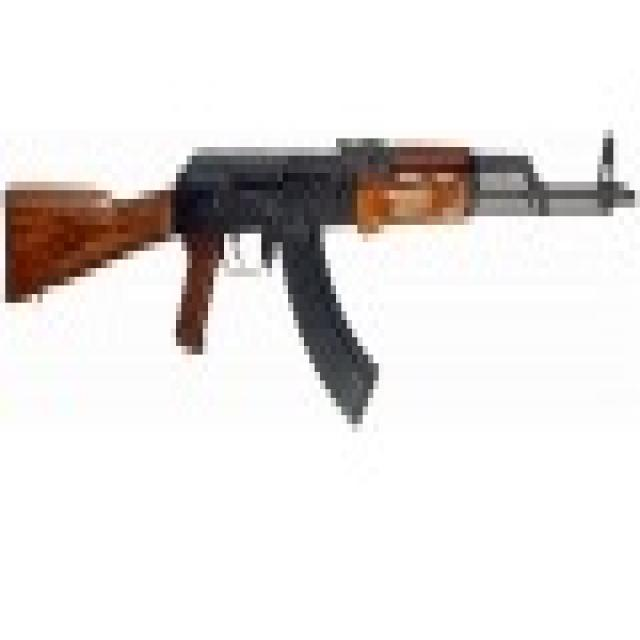Gun: (14, 98, 638, 404)
